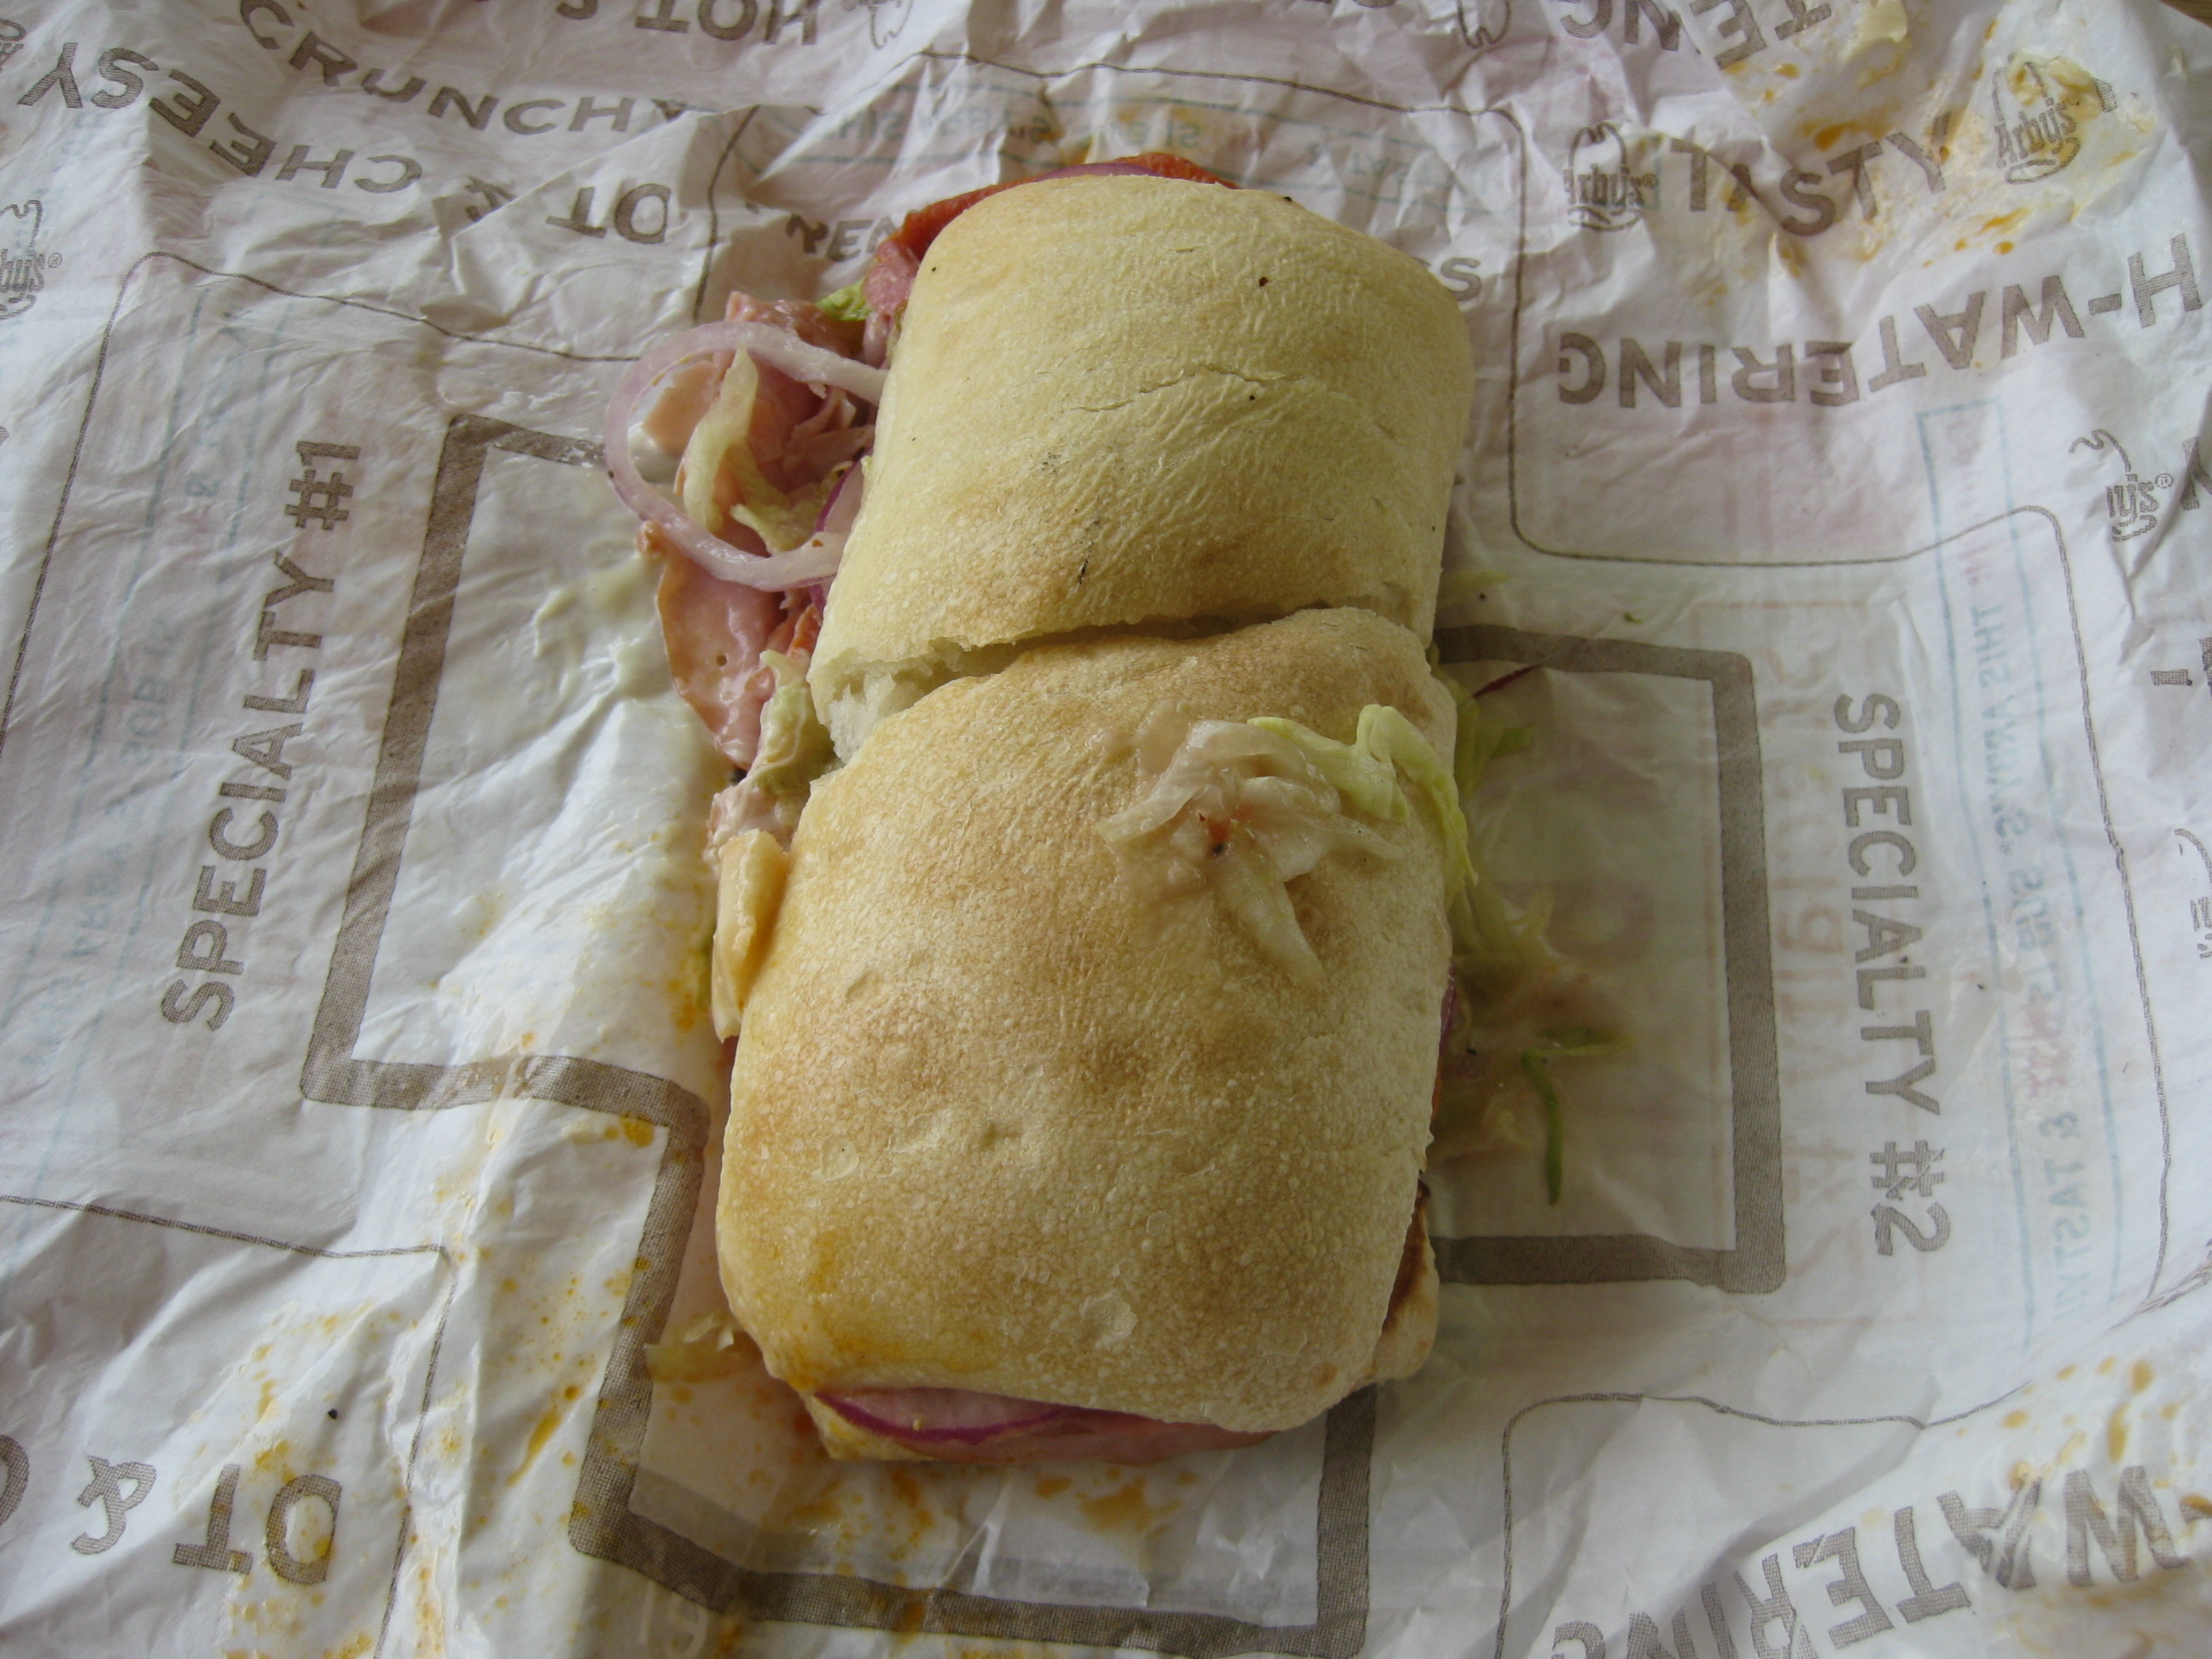sub: (620, 106, 1670, 1525)
